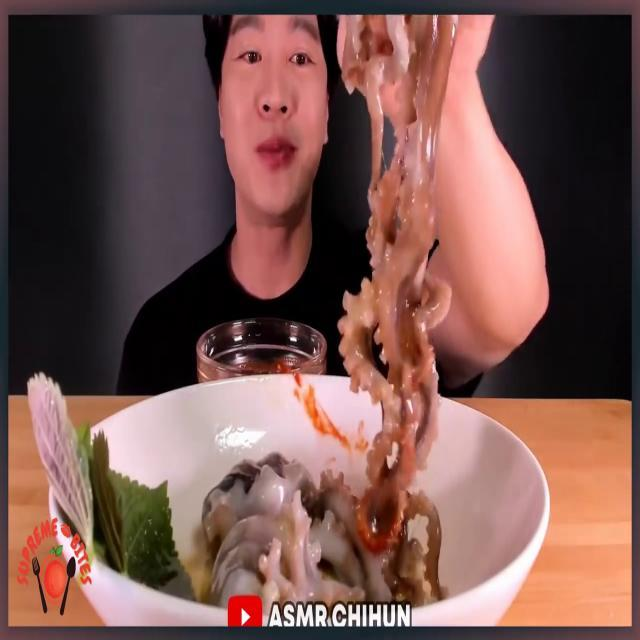octopus: (327, 0, 457, 604), (201, 448, 392, 640)
